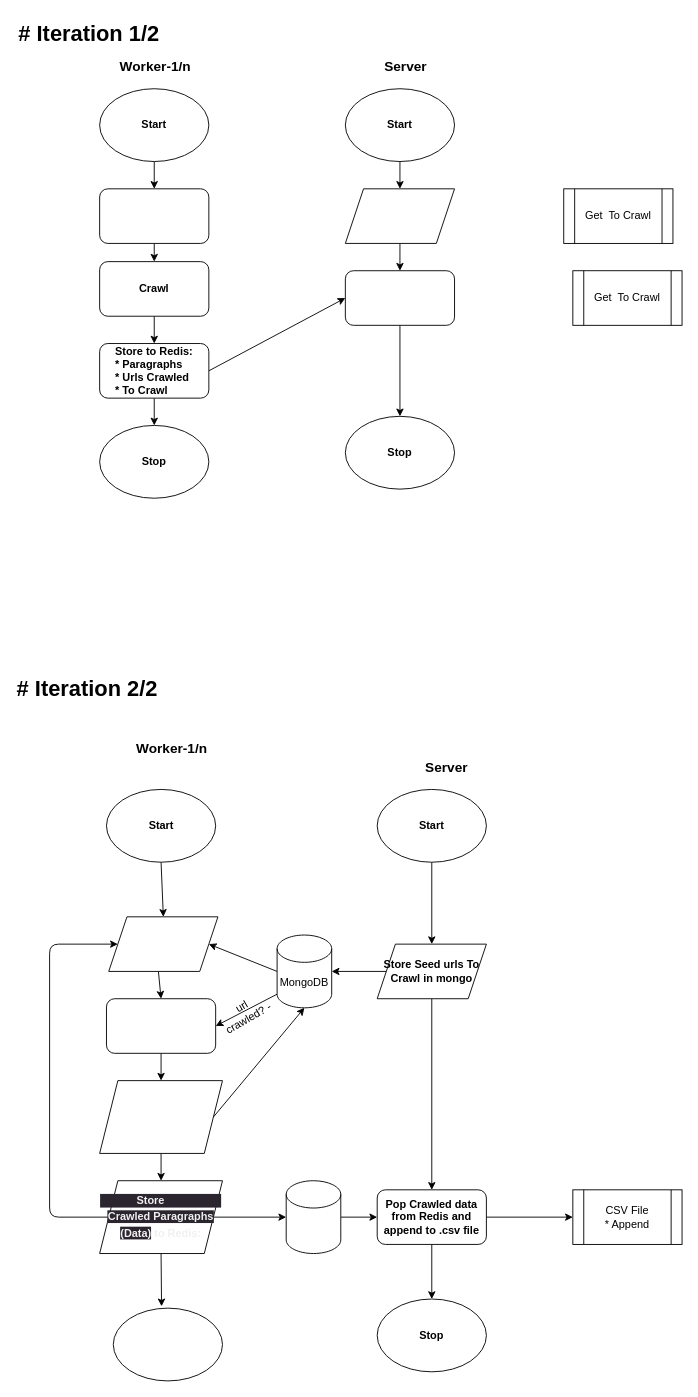
This 698x1397 diagram has some shape labels left out. Here are the shapes that lost their labels. From the top down, the box of each, then its label:
(99, 188, 209, 243): Get urls To Crawl From Redis
(344, 188, 455, 243): Store Seed urls To Crawl
(344, 270, 455, 325): Empty Redis * Crawled * To crawl * Paragraphs
(108, 916, 218, 971): Get urls To Crawl From Mongo
(106, 998, 216, 1053): Crawl if url not already Crawled
(99, 1080, 222, 1153): Store to Mongo: * url_to_crawl * url_crawled * url_crawling
(285, 1180, 341, 1254): Redis
(112, 1307, 222, 1381): Stop if mongo returns no more urls to crawl
